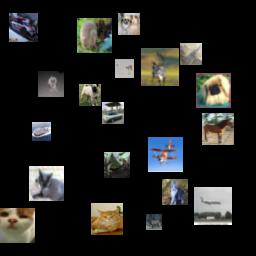airplane: (194, 187, 232, 225), (148, 137, 183, 172), (180, 43, 202, 65)
automobile: (9, 13, 38, 42), (102, 102, 124, 124)
bird: (77, 18, 112, 53)
cat: (29, 166, 64, 201), (0, 208, 35, 243), (91, 203, 123, 235), (162, 179, 188, 205)
deer: (141, 48, 179, 86), (115, 59, 134, 78), (146, 214, 162, 230)
dog: (196, 73, 231, 108), (38, 71, 64, 97), (118, 13, 140, 35), (79, 84, 101, 106)
frog: (104, 152, 130, 178)
ship: (32, 122, 51, 141)
